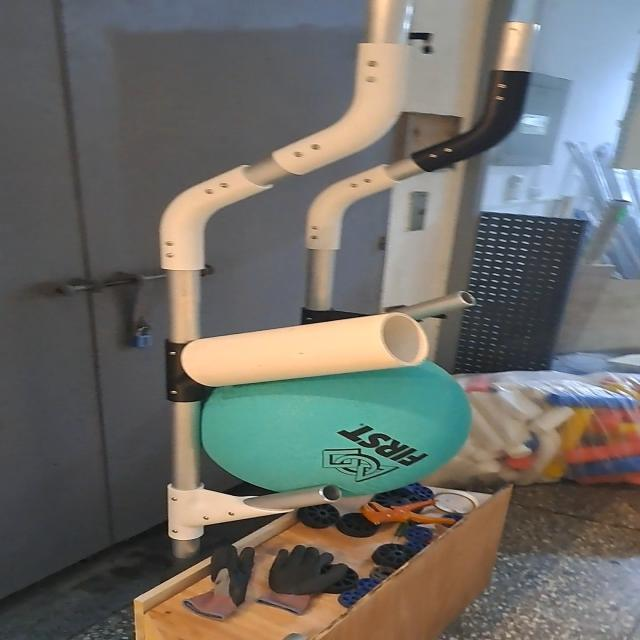ALGAE: (203, 343, 477, 498)
CORAL: (176, 310, 431, 387)
